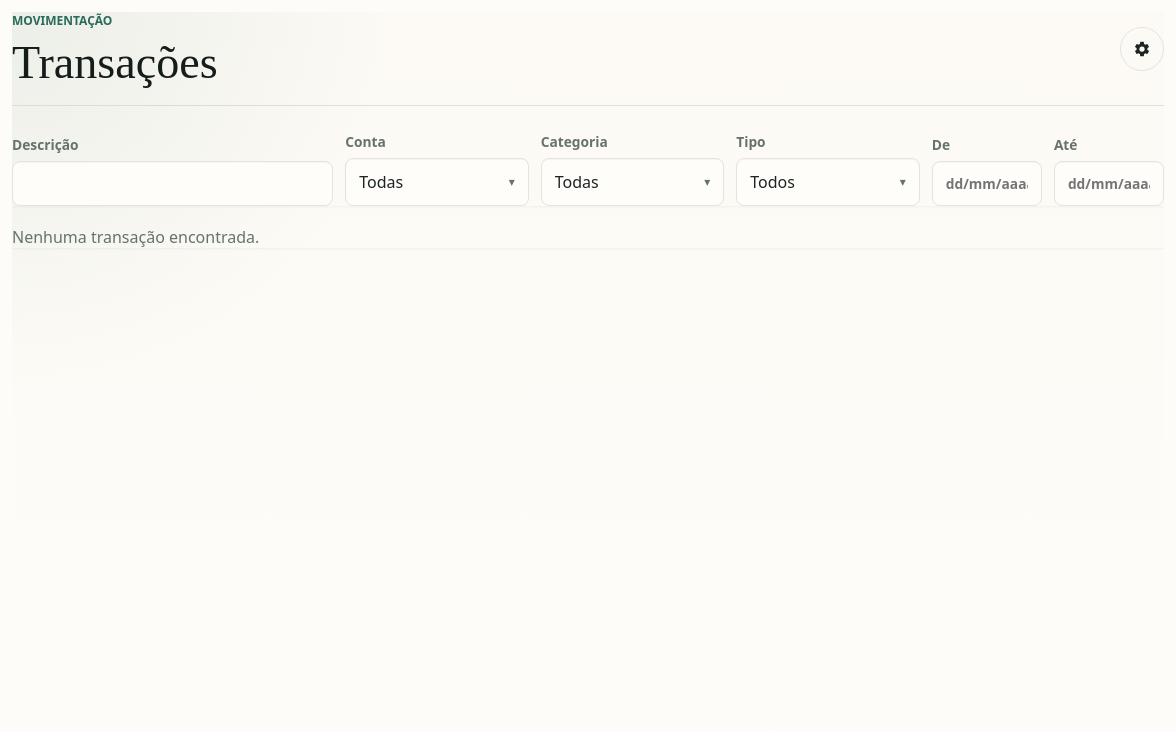
it: TransactionsComponent › shows parent category headers without making them selectable
This screenshot has width=1176, height=732.
Click the button with class "multi-select-trigger" below "Categoria" at (632,182), box [541,158,724,206]
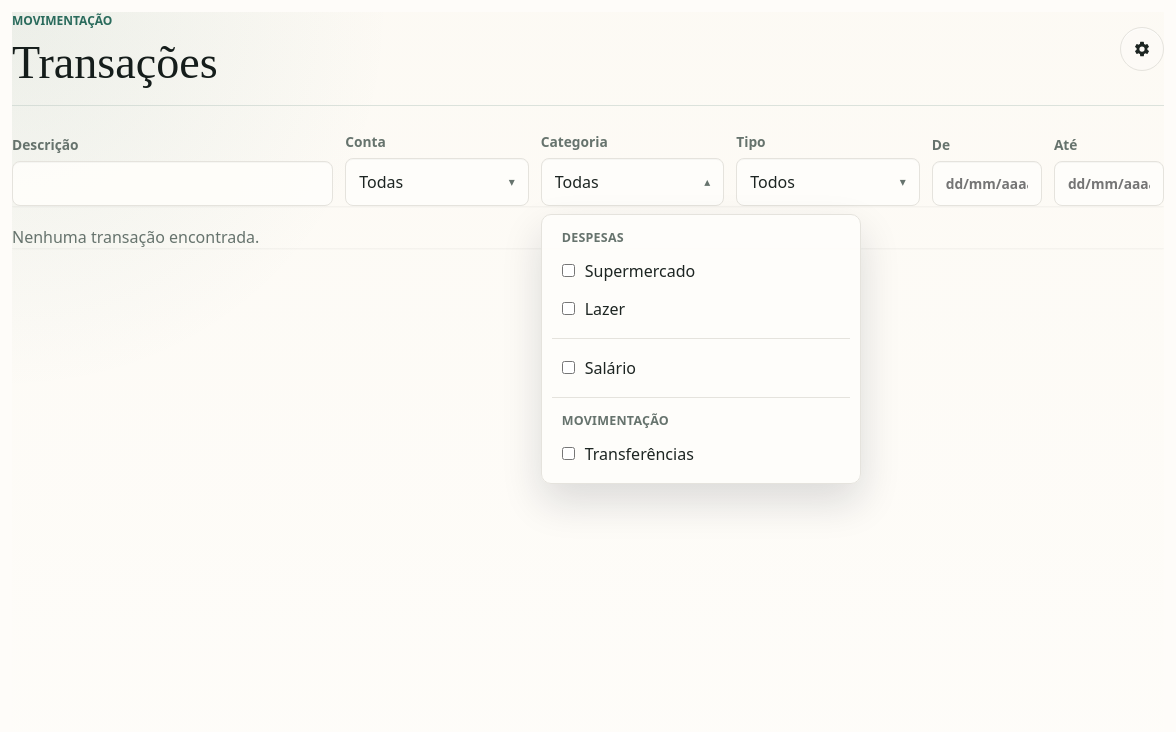
Expected: the text "Supermercado" is shown, [585,260,695,282]
Expected: the text "Lazer" is shown, [585,298,625,320]
Expected: the text "Salário" is shown, [585,357,636,379]
